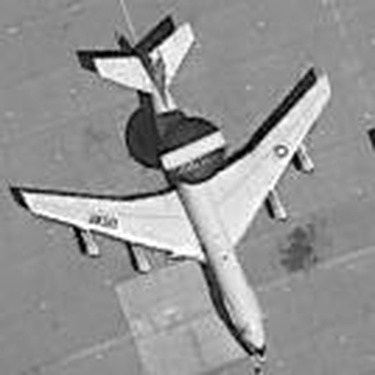airplane: (7, 15, 338, 363)
